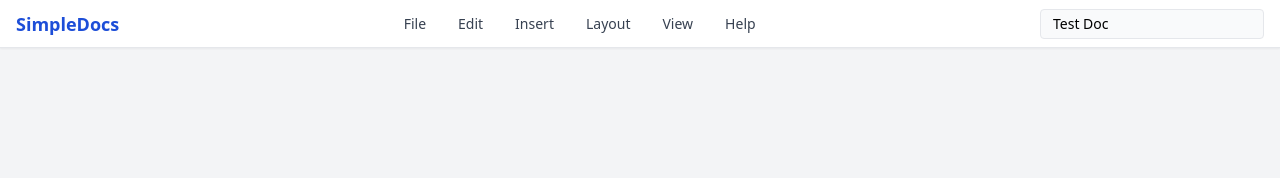
Test case: Navbar — menu close behavior › Edit menu › closes after clicking Copy
This screenshot has width=1280, height=178.
Click the button "Edit" at x=471, y=24, box [450,10,491,38]
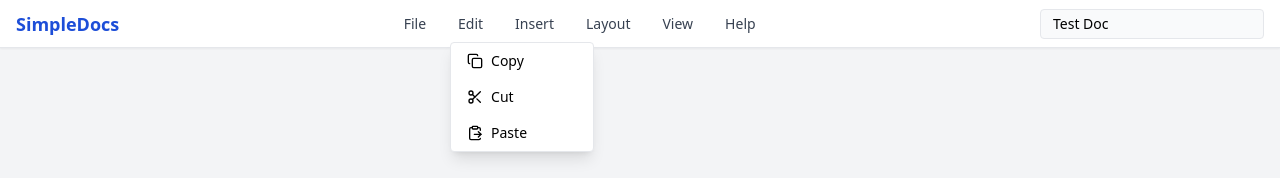
Click the button "Copy" at x=522, y=60, box [451,42,593,78]
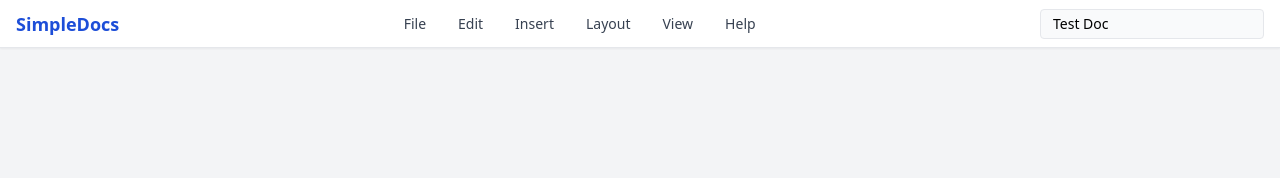
Expected: the button "Copy" is gone
